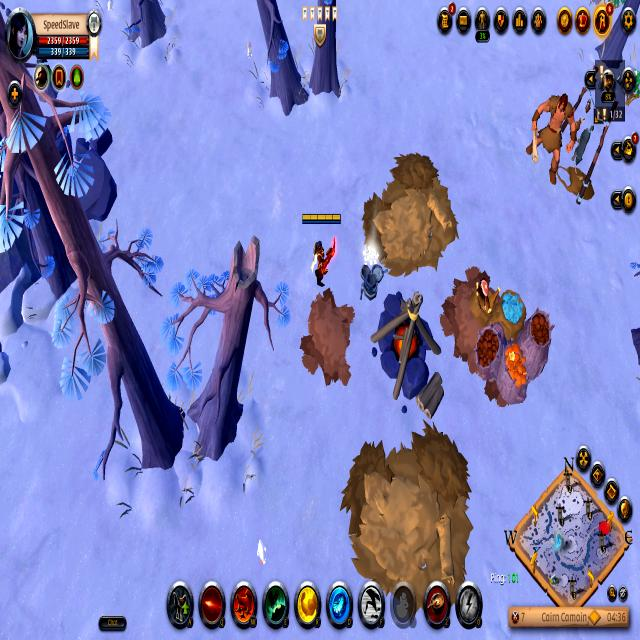hide: (618, 66, 640, 112)
ore: (524, 85, 578, 193)
red: (298, 207, 342, 293)
stone: (359, 239, 380, 272)
